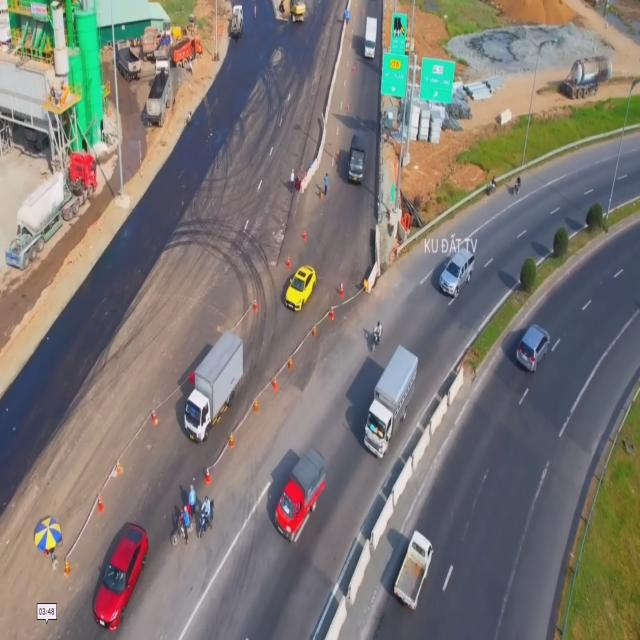car: (91, 524, 149, 635), (512, 321, 550, 373), (438, 249, 475, 301), (284, 263, 315, 315)
motorbike: (169, 506, 195, 545), (197, 498, 216, 537), (370, 321, 382, 348)
truck: (182, 334, 245, 445), (363, 344, 420, 458), (274, 444, 326, 548), (392, 530, 434, 610), (349, 132, 368, 184), (363, 14, 377, 56)
